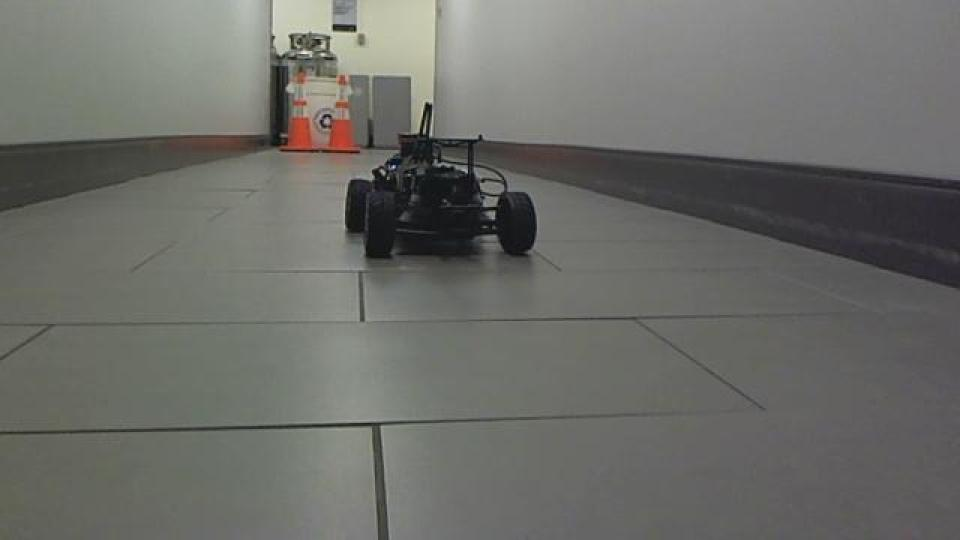car: (340, 101, 540, 262)
